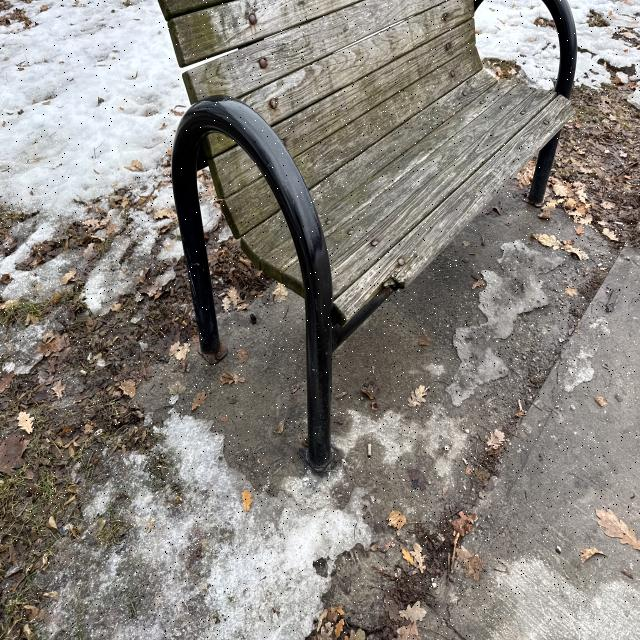Bench: (170, 2, 490, 452)
